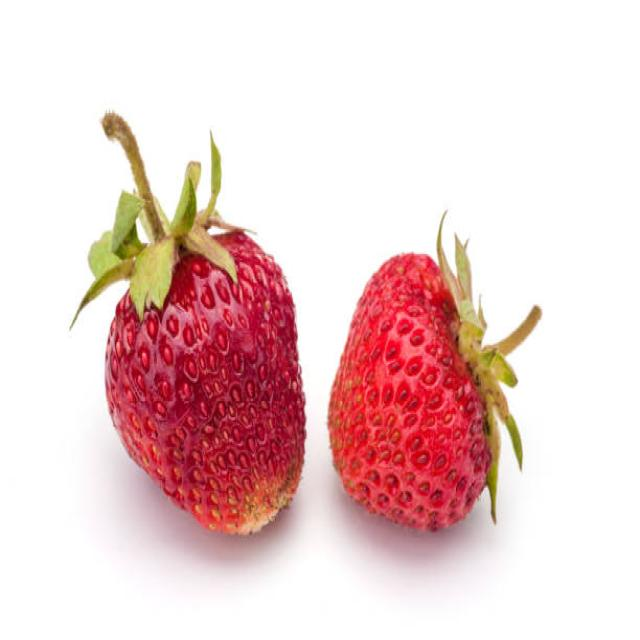Healthy Fruit: (103, 227, 305, 534), (328, 249, 488, 530)
